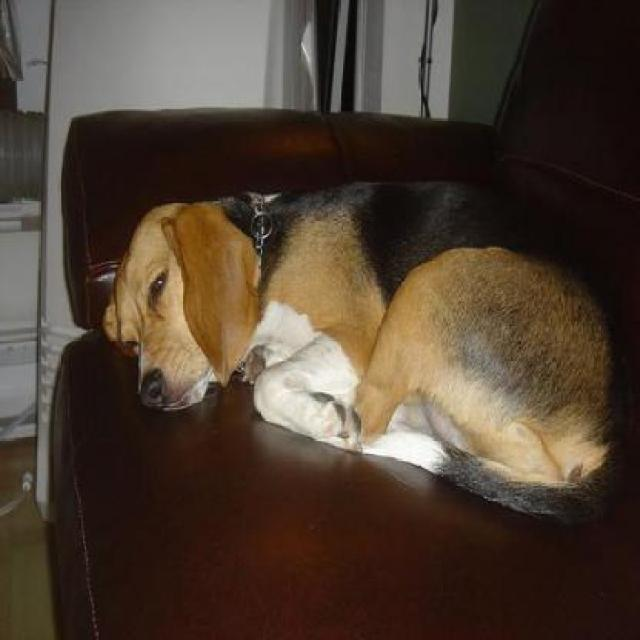Dog: (98, 173, 634, 524)
